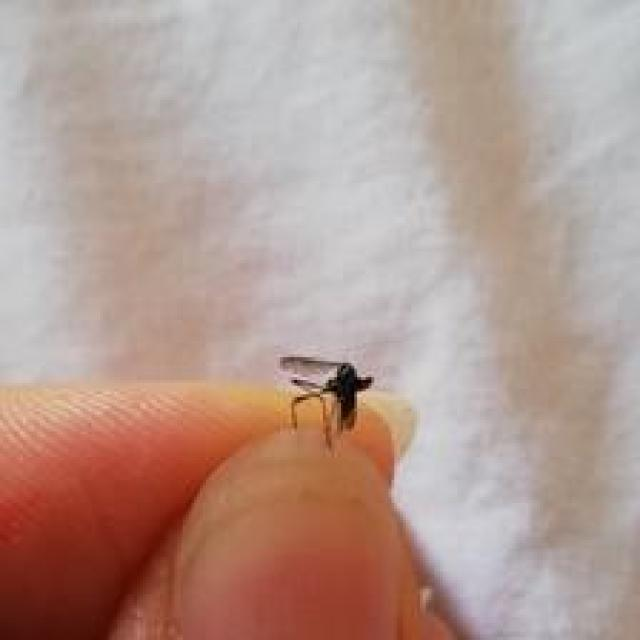Aedes albopictus: (277, 353, 374, 453)
